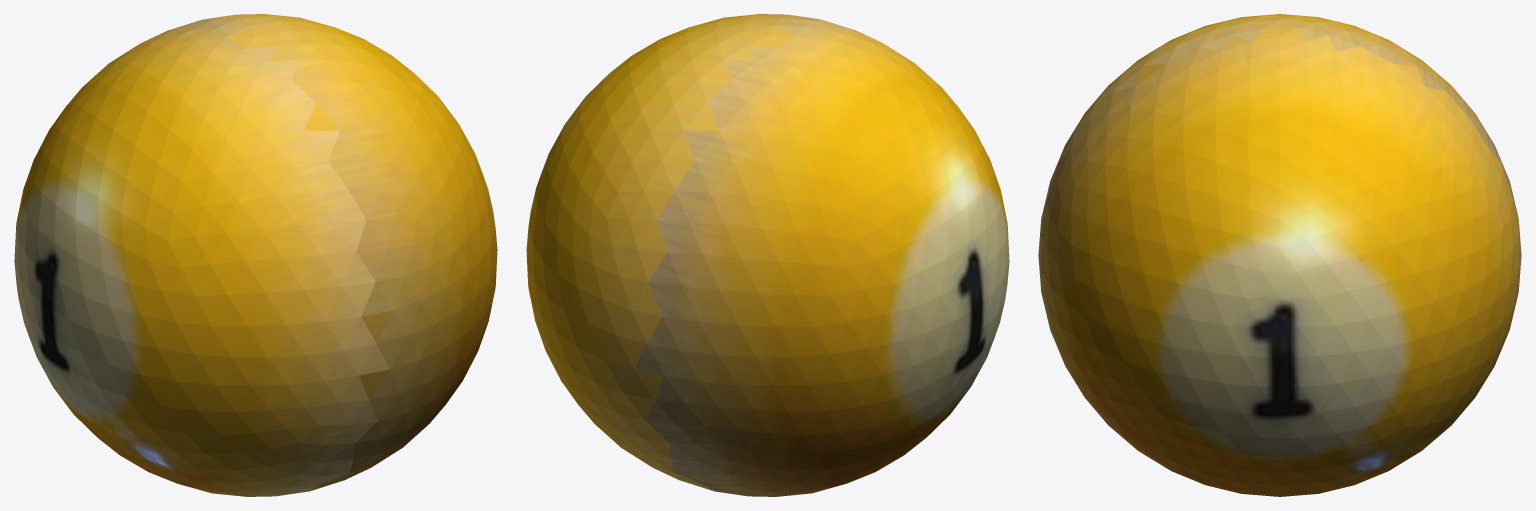
File: balll_1.glb
3 views of the same model, side by side, from view 1: azimuth 30°, elevation 25°; view 2: azimuth 150°, elevation 25°; view 3: azimuth 270°, elevation 25° (orthographic).
Visible parts, largest first — view 1: Ball_1; view 2: Ball_1; view 3: Ball_1.
Boxes of the visible parts, box(x1,y1,x2,y2) form: Ball_1: box(14, 14, 497, 496); Ball_1: box(526, 14, 1009, 496); Ball_1: box(1038, 14, 1521, 496).
Bounding box in the file's own units: 2 × 2 × 2.
1 material, 1 textured.
